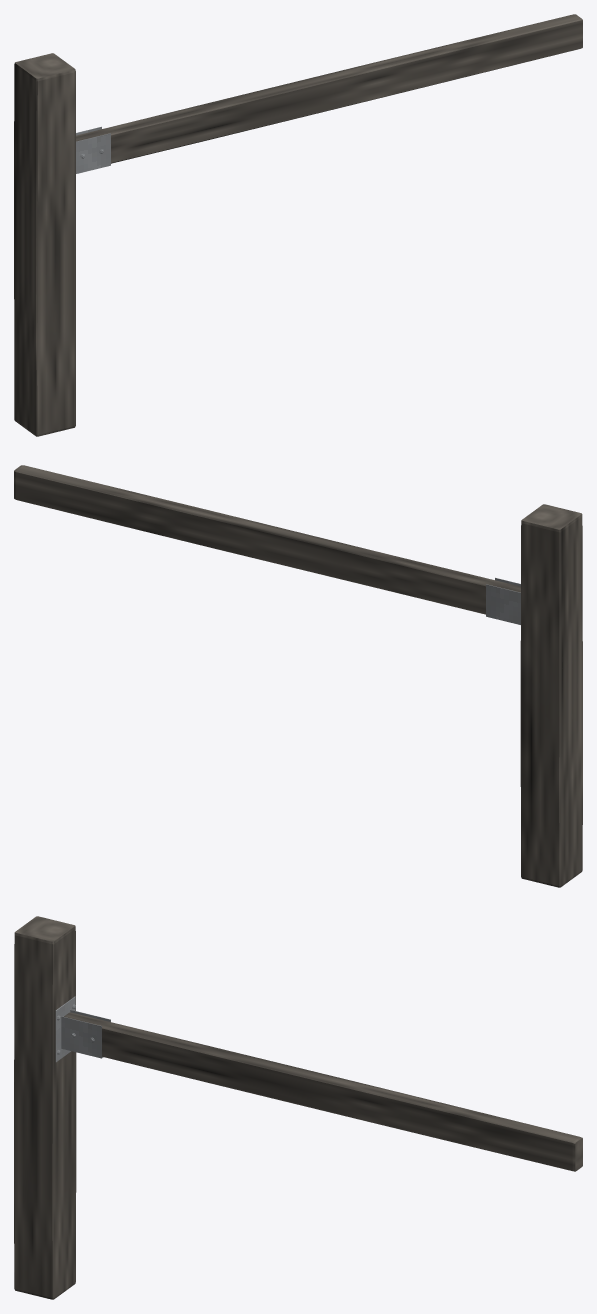
The model's file is rural_fence_post_01.glb.
3 renders of one model, top to bottom at view 1: azimuth 30°, elevation 25°; view 2: azimuth 150°, elevation 25°; view 3: azimuth 330°, elevation 25°, orthographic.
Parts seen in each view (by area): view 1: rural_fence_post_01_wood, rural_fence_post_01_bracket; view 2: rural_fence_post_01_wood, rural_fence_post_01_bracket; view 3: rural_fence_post_01_wood, rural_fence_post_01_bracket.
Boxes of the visible parts, left/top/right/bottom form: rural_fence_post_01_wood: left=14, top=14, right=582, bottom=436; rural_fence_post_01_bracket: left=76, top=126, right=110, bottom=173; rural_fence_post_01_wood: left=14, top=465, right=582, bottom=887; rural_fence_post_01_bracket: left=486, top=577, right=520, bottom=624; rural_fence_post_01_wood: left=14, top=916, right=582, bottom=1299; rural_fence_post_01_bracket: left=55, top=996, right=110, bottom=1062.
Bounding box in the file's own units: 1.94 × 1.2 × 0.1412.
2 materials, 2 textured.
